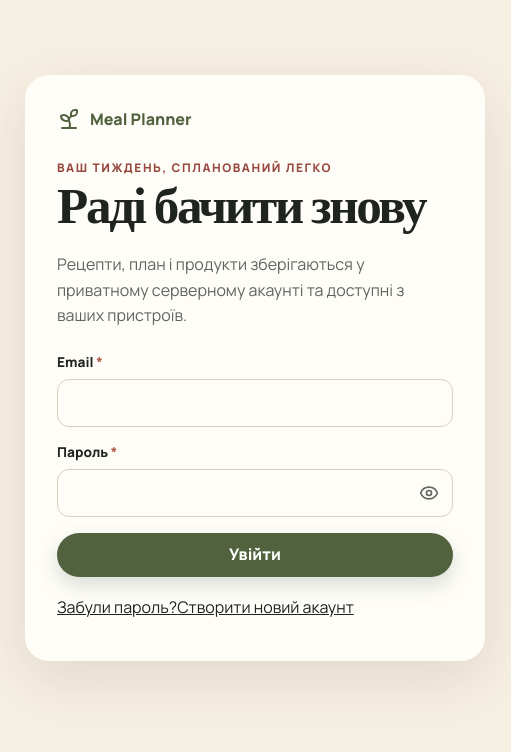
Scenario: AuthPage › switches to account creation
This screenshot has width=511, height=752.
Step 1. Click the button "Створити новий акаунт" → (265, 607), box [177,585,354,629]
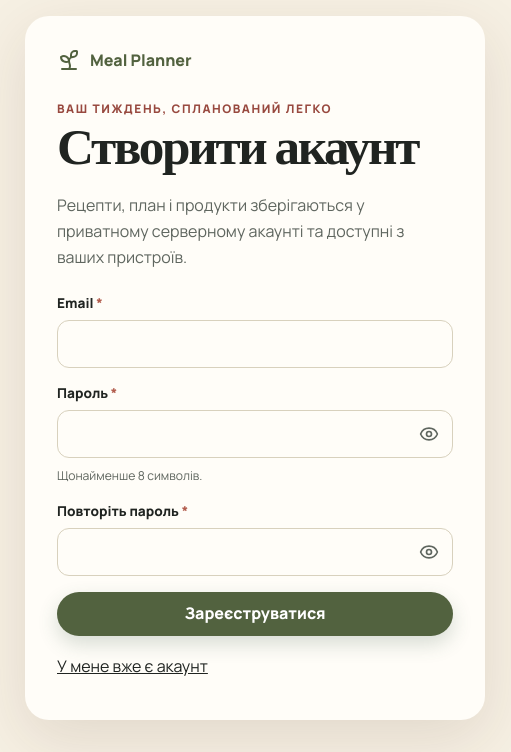
Result: the heading "Створити акаунт" is shown at [57,127,453,178]
Result: the button "Зареєструватися" is shown at [57,592,453,636]
Result: the password field labelled "Повторіть пароль" is shown at [57,528,453,576]
